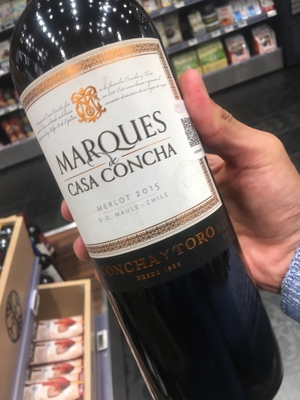marques de casa concha merlot: (14, 8, 243, 323)
